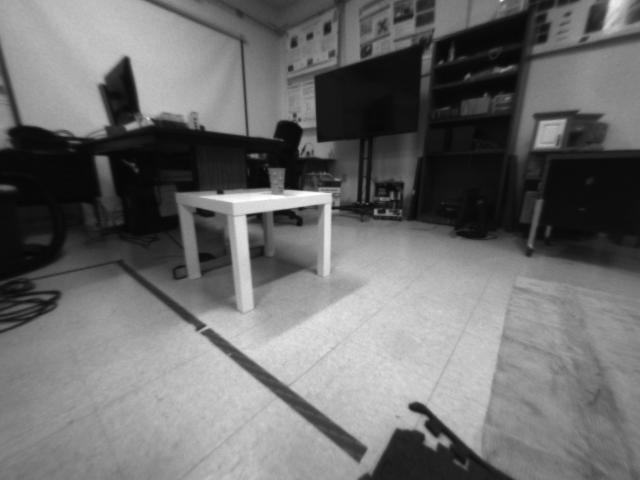coffee_cup: (266, 165, 287, 194)
